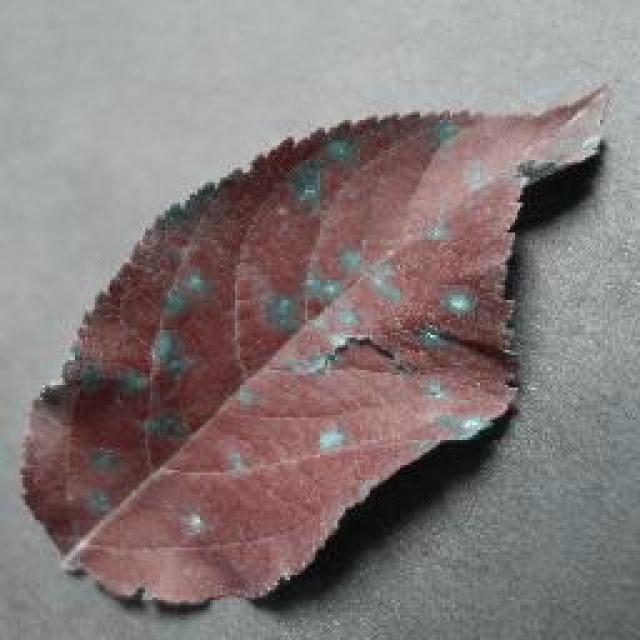apple cedar apple rust: (18, 78, 612, 608)
